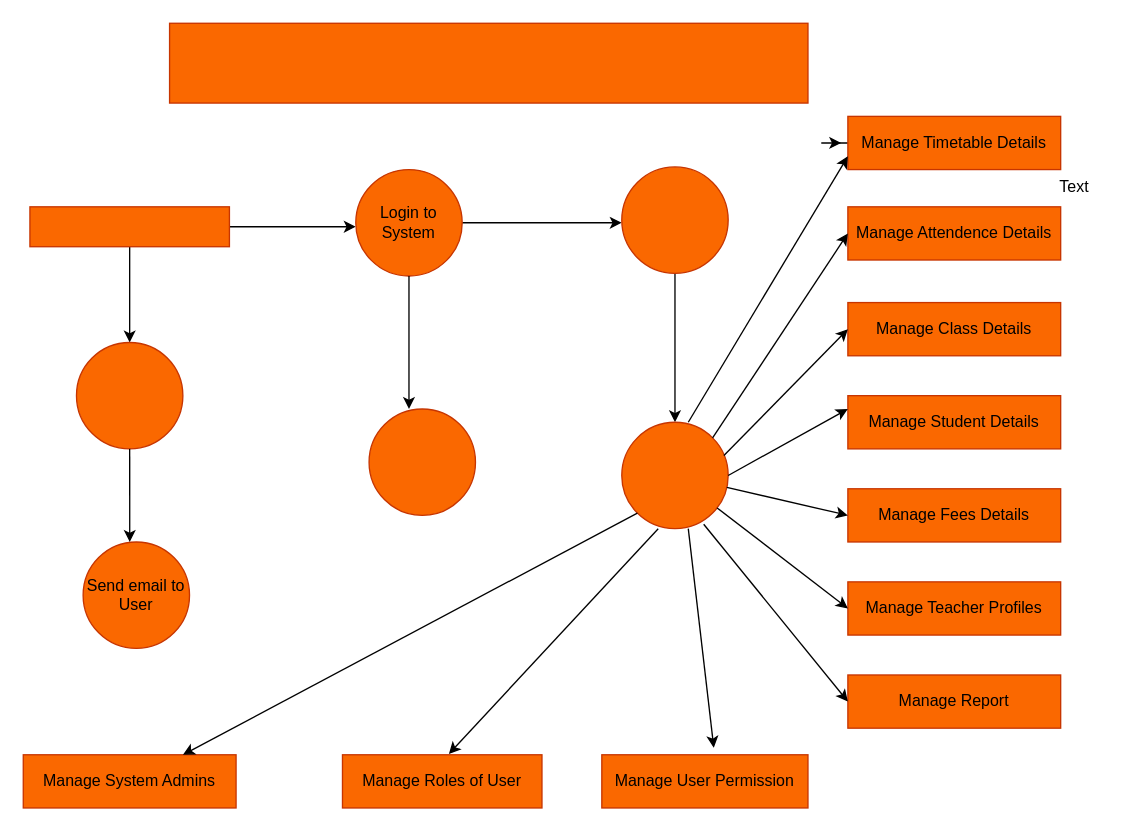
Some shapes in this 1131 by 831 pixel diagram are drawn without their labels. Here are the shapes that lost their labels. From the top down, the box of each, then its label:
(168, 22, 808, 103): Student Information System
(29, 205, 229, 247): Admin
(620, 166, 728, 273): Check Roles of Access
(75, 341, 183, 449): Forgot Password
(368, 408, 475, 515): Check Credentials
(620, 421, 728, 529): Manage Modules
